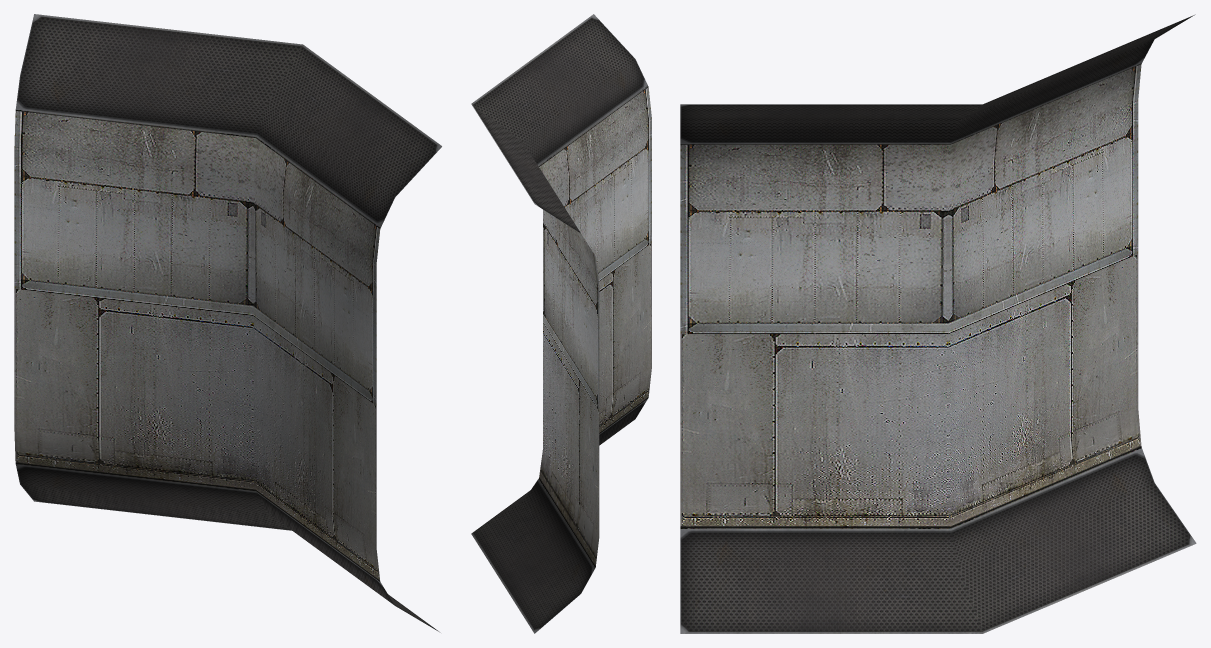
The model's file is Wall_B_Mid4mts_15.fbx.
3 renders of one model, left to right at view 1: azimuth 30°, elevation 25°; view 2: azimuth 150°, elevation 25°; view 3: azimuth 270°, elevation 25°, orthographic. The views are drawn at different scales.
Parts seen in each view (by area): view 1: Wall_B_Mid4mts_15; view 2: Wall_B_Mid4mts_15; view 3: Wall_B_Mid4mts_15.
Part boxes in pixels (x1,y1,x2,y2): Wall_B_Mid4mts_15: (14, 14, 441, 632); Wall_B_Mid4mts_15: (471, 14, 651, 633); Wall_B_Mid4mts_15: (680, 14, 1196, 633).
Size of the model in its own units: 186 by 400 by 354.
1 material, 1 textured.
